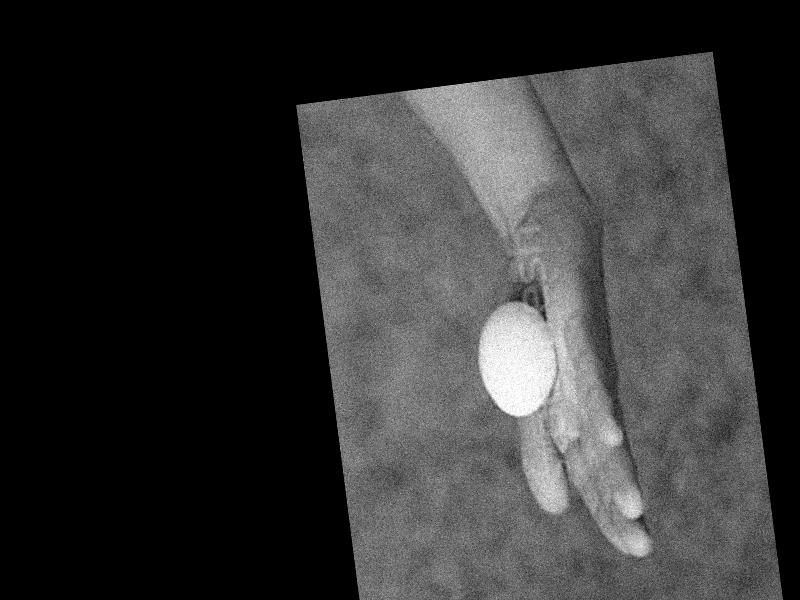Eggs: (469, 296, 562, 420)
